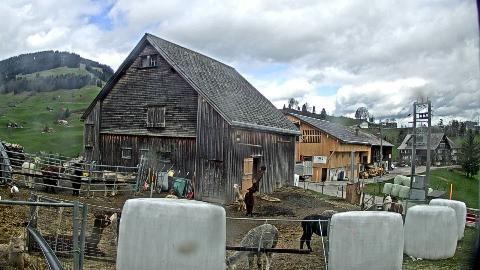car: (391, 164, 395, 170)
sheep: (32, 212, 112, 258), (224, 224, 280, 270), (299, 213, 335, 257), (0, 232, 30, 270), (40, 162, 68, 188), (104, 173, 136, 195), (22, 157, 42, 188), (40, 166, 60, 194), (68, 166, 84, 196), (102, 171, 118, 197), (232, 183, 246, 211), (245, 186, 257, 218), (252, 166, 266, 192), (378, 194, 392, 214), (391, 196, 405, 216), (321, 208, 341, 220), (252, 169, 264, 183)
